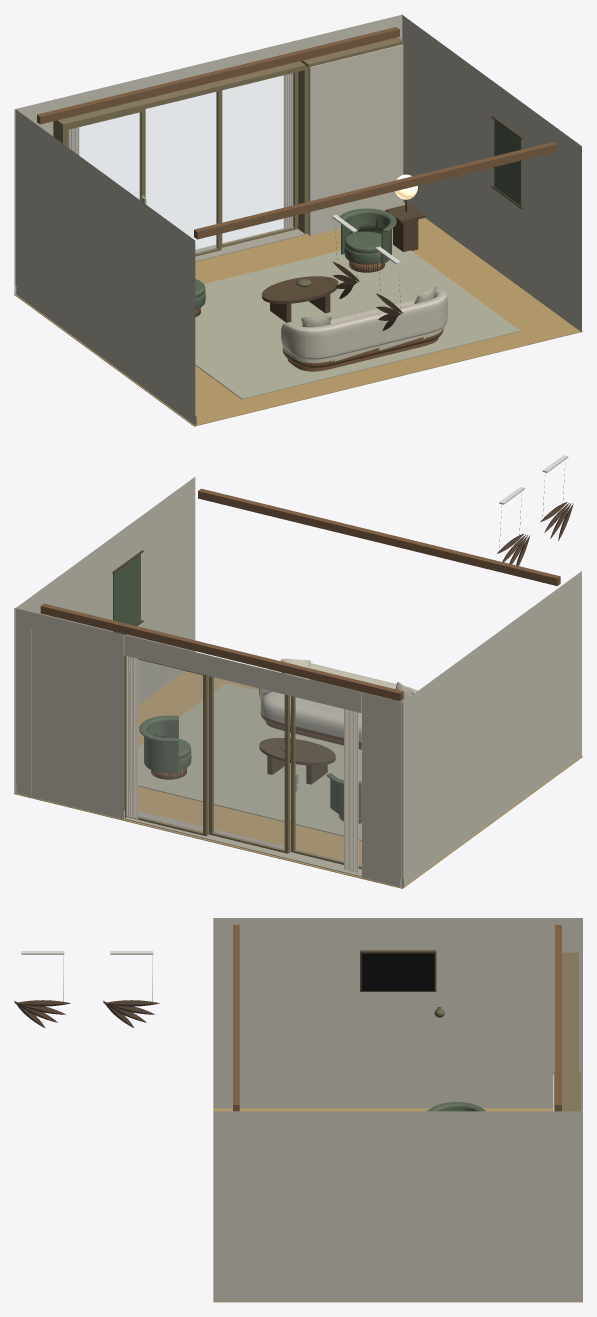
File: great-2.glb
3 views of the same model, one above another, from view 1: azimuth 30°, elevation 25°; view 2: azimuth 150°, elevation 25°; view 3: azimuth 270°, elevation 25° (orthographic). The views are drawn at different scales.
Visible parts, largest first — view 1: DESIGN | great removable wall finish, DESIGN | Great room primary ground, DESIGN | great floor finish, DESIGN | R10 pocket enclosure face, DESIGN | R10 pocket panel 3 glass, DESIGN | R10 pocket panel 2 glass, DESIGN | Great room sofa facing conversation, DESIGN | Garden salon perimeter timber.001, DESIGN | Garden salon perimeter timber, DESIGN | R10 pocket panel 1 glass, DESIGN | Required Bellustar swivel chair two, DESIGN | R10 garden opening head (+9 smaller); view 2: DESIGN | great removable wall finish, DESIGN | Great room primary ground, DESIGN | R10 pocket panel 2 glass, DESIGN | R10 pocket panel 3 glass, DESIGN | great floor finish, DESIGN | R10 pocket panel 1 glass, DESIGN | Garden salon perimeter timber.001, DESIGN | Garden salon perimeter timber, DESIGN | Great room sofa facing conversation, DESIGN | Required Bellustar swivel chair two, DESIGN | Great room soft window edge, DESIGN | Great room soft window edge.001 (+10 smaller); view 3: DESIGN | great removable wall finish, DESIGN | R10 television inactive screen, DESIGN | R10 garden opening head, DESIGN | great floor finish, DESIGN | Garden salon perimeter timber, DESIGN | Garden salon perimeter timber.001, DESIGN | R10 pocket access cap, DESIGN | Required Flou pendant 2, DESIGN | Required Flou pendant 1, DESIGN | R10 television frame.
Boxes of the visible parts, x1,y1,x2,y2 form: DESIGN | great removable wall finish: (14, 14, 581, 425); DESIGN | Great room primary ground: (195, 238, 520, 399); DESIGN | great floor finish: (14, 202, 582, 426); DESIGN | R10 pocket enclosure face: (308, 44, 402, 235); DESIGN | R10 pocket panel 3 glass: (222, 73, 293, 244); DESIGN | R10 pocket panel 2 glass: (146, 92, 216, 253); DESIGN | Great room sofa facing conversation: (281, 286, 447, 371); DESIGN | Garden salon perimeter timber.001: (37, 27, 399, 124); DESIGN | Garden salon perimeter timber: (194, 142, 556, 239); DESIGN | R10 pocket panel 1 glass: (69, 112, 140, 199); DESIGN | Required Bellustar swivel chair two: (339, 208, 396, 272); DESIGN | R10 garden opening head: (56, 61, 307, 128); DESIGN | great removable wall finish: (14, 477, 581, 887); DESIGN | Great room primary ground: (138, 683, 361, 840); DESIGN | R10 pocket panel 2 glass: (213, 677, 284, 849); DESIGN | R10 pocket panel 3 glass: (138, 660, 202, 832); DESIGN | great floor finish: (14, 671, 582, 888); DESIGN | R10 pocket panel 1 glass: (295, 697, 361, 865); DESIGN | Garden salon perimeter timber.001: (40, 603, 403, 700); DESIGN | Garden salon perimeter timber: (198, 488, 560, 586); DESIGN | Great room sofa facing conversation: (258, 658, 417, 749); DESIGN | Required Bellustar swivel chair two: (139, 715, 191, 779); DESIGN | Great room soft window edge: (344, 709, 358, 873); DESIGN | Great room soft window edge.001: (126, 656, 138, 819); DESIGN | great removable wall finish: (213, 918, 582, 1301); DESIGN | R10 television inactive screen: (361, 953, 434, 990); DESIGN | R10 garden opening head: (562, 952, 578, 1071); DESIGN | great floor finish: (213, 1108, 582, 1302); DESIGN | Garden salon perimeter timber: (233, 925, 239, 1111); DESIGN | Garden salon perimeter timber.001: (555, 925, 561, 1111); DESIGN | R10 pocket access cap: (554, 1071, 581, 1111); DESIGN | Required Flou pendant 2: (103, 1000, 159, 1027); DESIGN | Required Flou pendant 1: (14, 1000, 70, 1028); DESIGN | R10 television frame: (360, 950, 436, 991).
Bounding box in the file's own units: 6 × 3.04 × 7.42.
